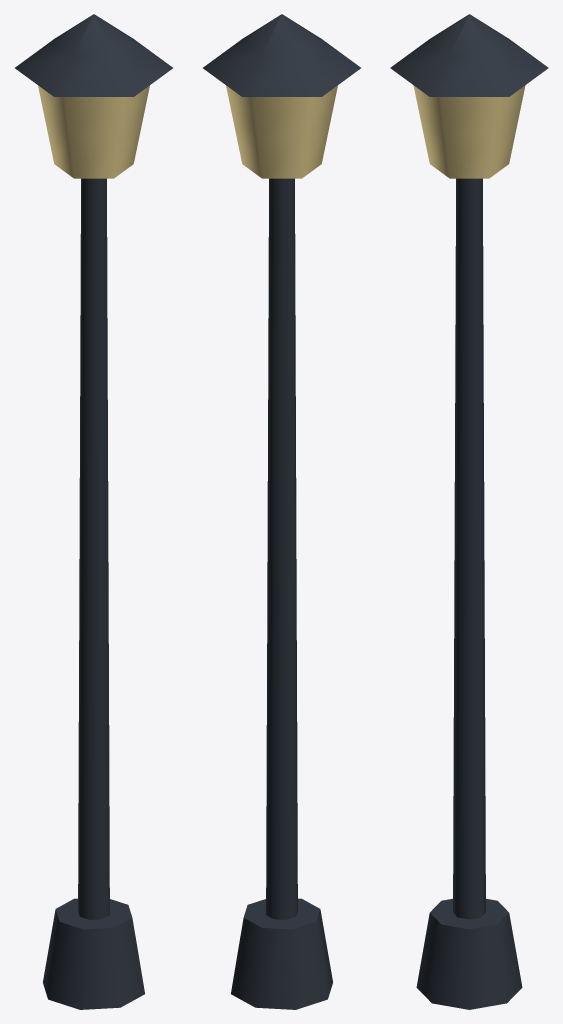
Rendered from lamp_post.glb.
3 views of the same model, side by side, from view 1: azimuth 30°, elevation 25°; view 2: azimuth 150°, elevation 25°; view 3: azimuth 270°, elevation 25° (orthographic).
Visible parts, largest first — view 1: lamp_post_mesh; view 2: lamp_post_mesh; view 3: lamp_post_mesh.
Boxes of the visible parts, bbox=[...] form: lamp_post_mesh: bbox=[15, 14, 172, 1009]; lamp_post_mesh: bbox=[203, 14, 360, 1009]; lamp_post_mesh: bbox=[390, 14, 548, 1009].
Size of the model in its own units: 0.4157 by 3.25 by 0.48.
